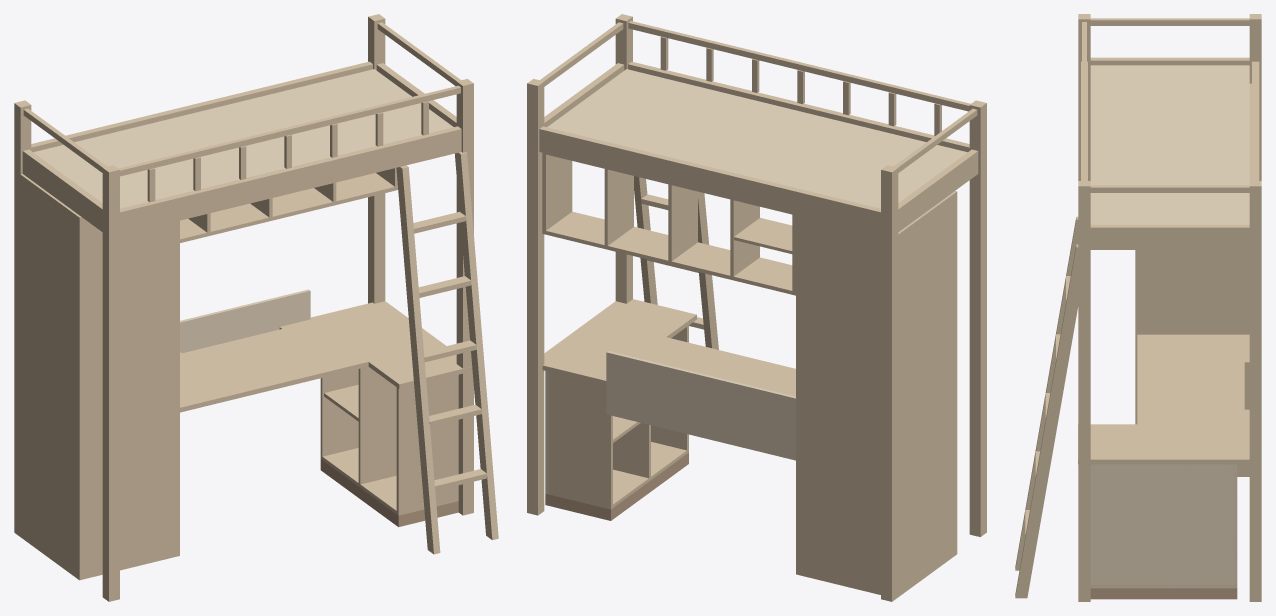
Rendered from dormdesk_body.glb.
3 renders of one model, left to right at view 1: azimuth 30°, elevation 25°; view 2: azimuth 150°, elevation 25°; view 3: azimuth 270°, elevation 25°, orthographic. The views are drawn at different scales.
Parts seen in each view (by area): view 1: Wardrobe_Solid_Box_Mesh, Bed_Base_Board_Mesh, Desk_Top_Main_Mesh, Bed_Beam_Front_Mesh, Pillar_FR_Mesh, Desk_Top_L_Return_Mesh, Cabinet_Front_End_Panel_Mesh, Ladder_Rail_R_Mesh, Ladder_Rail_L_Mesh, Pillar_FL_Mesh, Desk_Back_Baffle_Mesh, Cabinet_Internal_Divider_Mesh (+13 smaller); view 2: Wardrobe_Solid_Box_Mesh, Bed_Base_Board_Mesh, Desk_Back_Baffle_Mesh, Bed_Beam_Back_Mesh, Cabinet_Rear_End_Panel_Mesh, Pillar_BL_Mesh, Pillar_FR_Mesh, Pillar_BR_Mesh, Desk_Top_L_Return_Mesh, Bookshelf_Bottom_Board_Mesh, Desk_Top_Main_Mesh, Bed_Beam_Front_Mesh (+17 smaller); view 3: Bed_Base_Board_Mesh, Cabinet_Back_Wall_Outer_Mesh, Desk_Top_Main_Mesh, Wardrobe_Solid_Box_Mesh, Desk_Top_L_Return_Mesh, Pillar_FL_Mesh, Pillar_BL_Mesh, Ladder_Rail_L_Mesh, Bed_Beam_Left_Mesh, Bookshelf_Wall_Right_Mesh, Cabinet_Base_Kickboard_Mesh, Ladder_Rail_R_Mesh (+8 smaller).
Boxes of the visible parts, left/top/right/bottom form: Wardrobe_Solid_Box_Mesh: left=18, top=173, right=179, bottom=580; Bed_Base_Board_Mesh: left=33, top=69, right=453, bottom=208; Desk_Top_Main_Mesh: left=180, top=319, right=368, bottom=412; Bed_Beam_Front_Mesh: left=120, top=126, right=461, bottom=234; Pillar_FR_Mesh: left=102, top=165, right=119, bottom=601; Desk_Top_L_Return_Mesh: left=310, top=301, right=472, bottom=388; Cabinet_Front_End_Panel_Mesh: left=396, top=374, right=458, bottom=515; Ladder_Rail_R_Mesh: left=396, top=165, right=440, bottom=554; Ladder_Rail_L_Mesh: left=455, top=152, right=498, bottom=540; Pillar_FL_Mesh: left=456, top=79, right=473, bottom=515; Desk_Back_Baffle_Mesh: left=180, top=289, right=310, bottom=353; Cabinet_Internal_Divider_Mesh: left=358, top=366, right=396, bottom=487; Wardrobe_Solid_Box_Mesh: left=796, top=191, right=957, bottom=598; Bed_Base_Board_Mesh: left=547, top=69, right=967, bottom=208; Desk_Back_Baffle_Mesh: left=606, top=351, right=795, bottom=460; Bed_Beam_Back_Mesh: left=539, top=126, right=880, bottom=234; Cabinet_Rear_End_Panel_Mesh: left=545, top=371, right=612, bottom=508; Pillar_BL_Mesh: left=527, top=79, right=544, bottom=515; Pillar_FR_Mesh: left=969, top=100, right=986, bottom=536; Pillar_BR_Mesh: left=881, top=165, right=898, bottom=601; Desk_Top_L_Return_Mesh: left=542, top=299, right=696, bottom=385; Bookshelf_Bottom_Board_Mesh: left=542, top=211, right=795, bottom=295; Desk_Top_Main_Mesh: left=638, top=337, right=795, bottom=396; Bed_Beam_Front_Mesh: left=628, top=61, right=969, bottom=152; Bed_Base_Board_Mesh: left=1090, top=65, right=1249, bottom=224; Cabinet_Back_Wall_Outer_Mesh: left=1090, top=464, right=1237, bottom=588; Desk_Top_Main_Mesh: left=1137, top=334, right=1249, bottom=424; Wardrobe_Solid_Box_Mesh: left=1135, top=83, right=1251, bottom=476; Desk_Top_L_Return_Mesh: left=1078, top=424, right=1253, bottom=464; Pillar_FL_Mesh: left=1078, top=181, right=1090, bottom=601; Pillar_BL_Mesh: left=1249, top=181, right=1261, bottom=601; Ladder_Rail_L_Mesh: left=1015, top=244, right=1078, bottom=598; Bed_Beam_Left_Mesh: left=1090, top=224, right=1249, bottom=249; Bookshelf_Wall_Right_Mesh: left=1202, top=250, right=1249, bottom=326; Cabinet_Base_Kickboard_Mesh: left=1090, top=588, right=1237, bottom=599; Ladder_Rail_R_Mesh: left=1015, top=216, right=1078, bottom=570.
Size of the model in its own units: 2 by 2.25 by 1.21.
